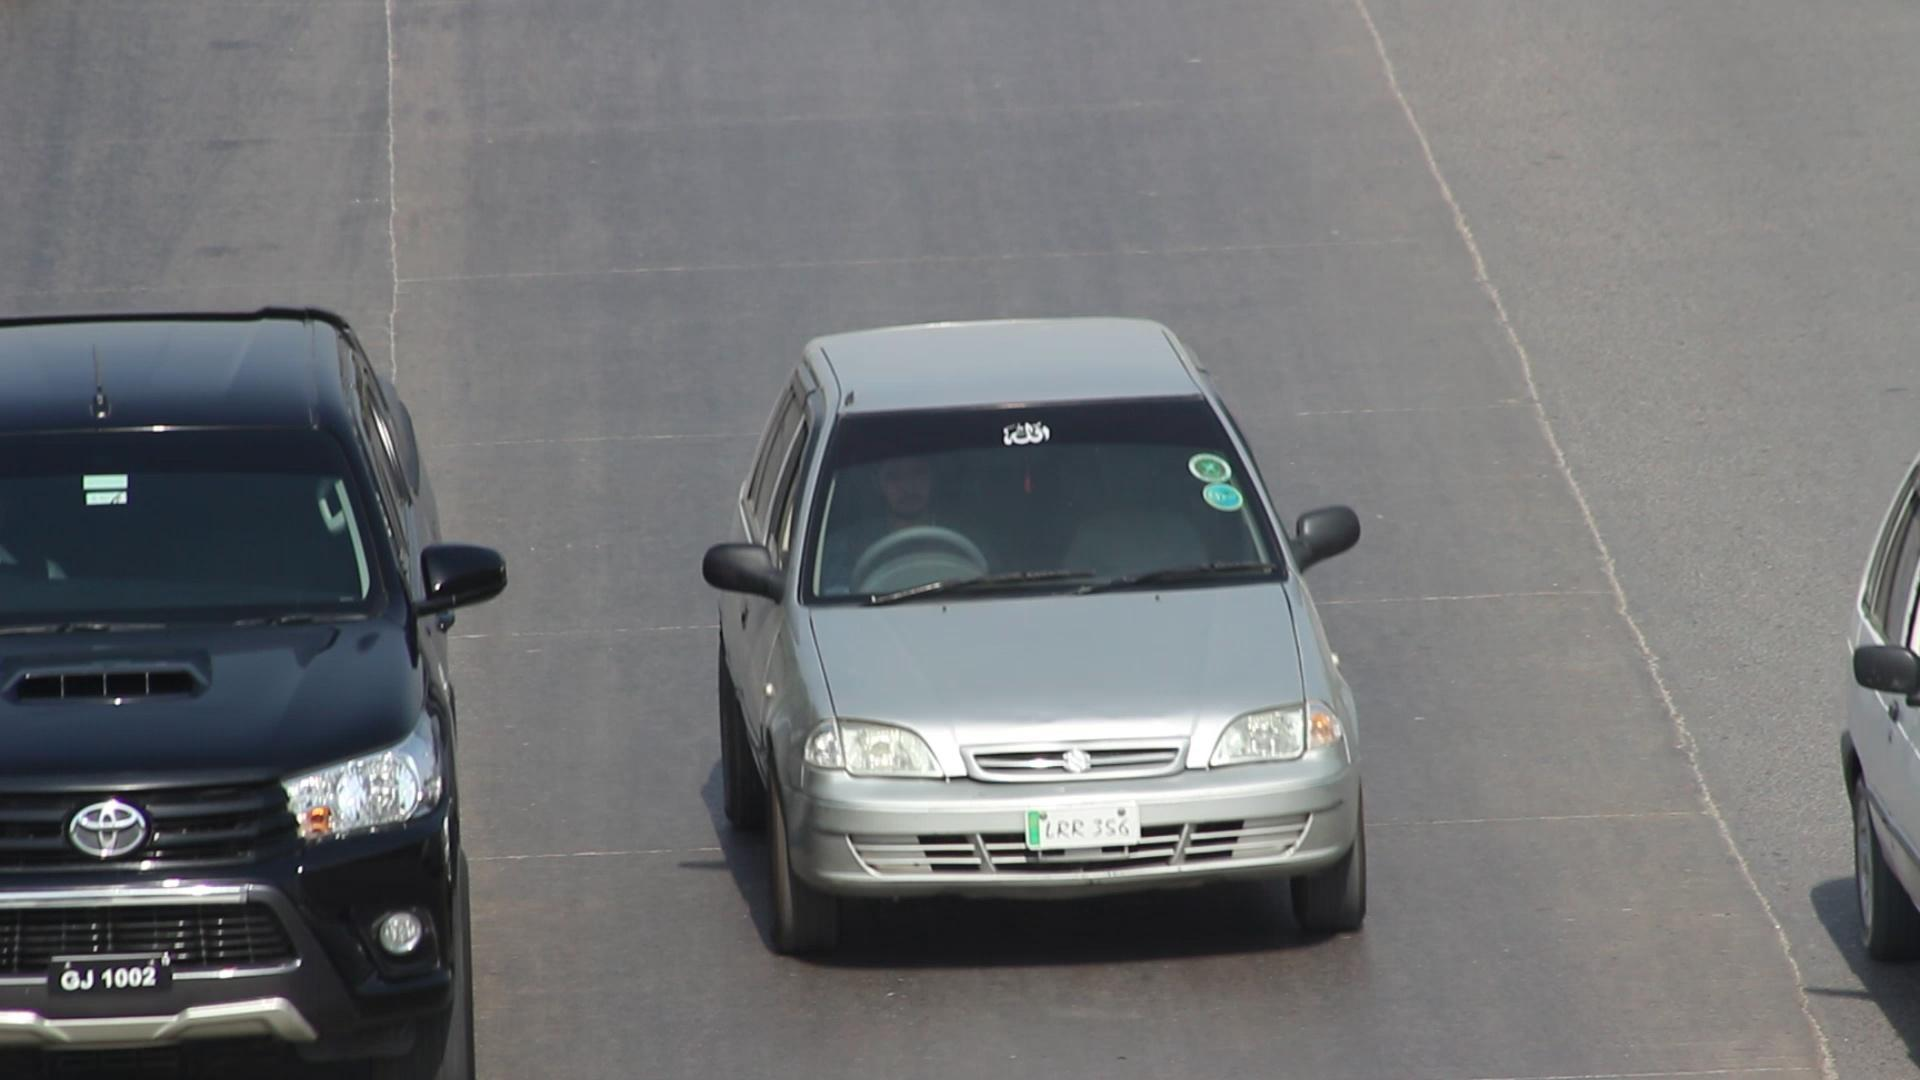windshield: (794, 371, 1320, 624)
